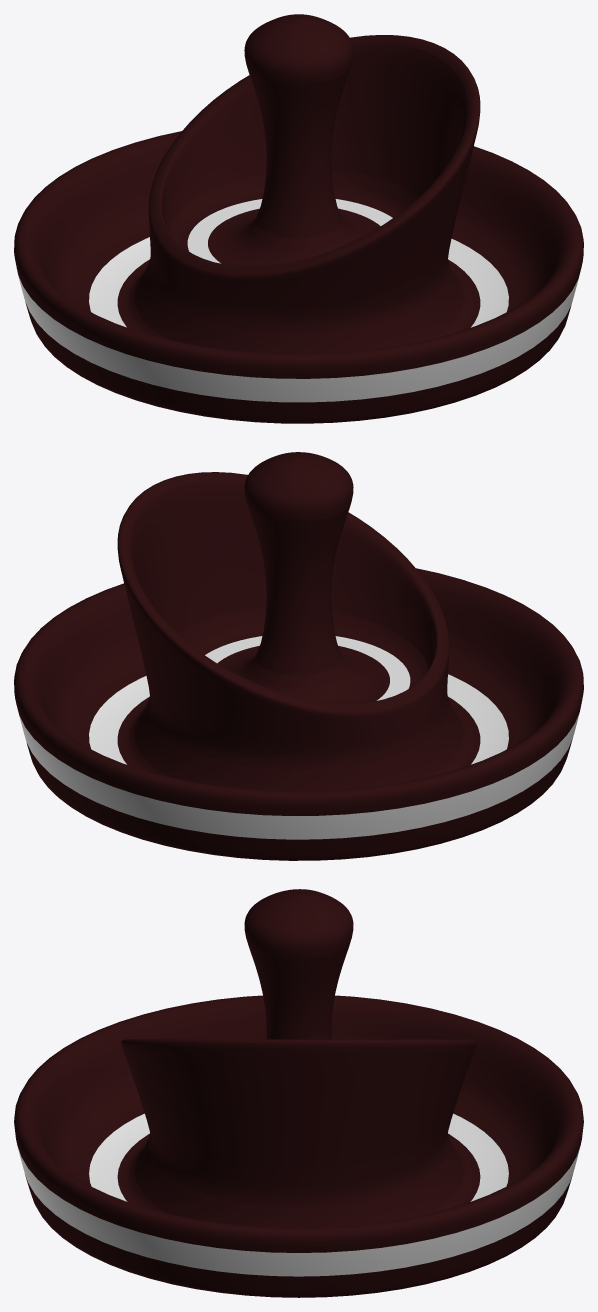
Rendered from Paddle 1.fbx.
The picture shows the model from 3 angles, top to bottom: view 1: azimuth 30°, elevation 25°; view 2: azimuth 150°, elevation 25°; view 3: azimuth 270°, elevation 25°; orthographic projection.
Visible parts, largest first — view 1: Ice Hookie paddle003.001; view 2: Ice Hookie paddle003.001; view 3: Ice Hookie paddle003.001.
Boxes of the visible parts, box(x1,y1,x2,y2) form: Ice Hookie paddle003.001: box(14, 14, 583, 423); Ice Hookie paddle003.001: box(14, 452, 583, 860); Ice Hookie paddle003.001: box(14, 889, 583, 1297).
Size of the model in its own units: 120 by 68.38 by 120.
